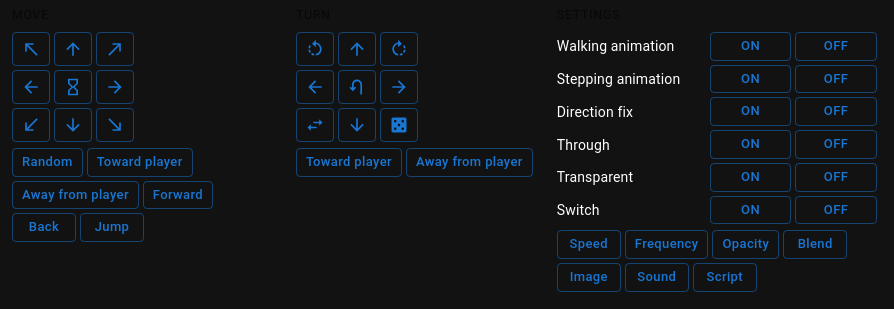
RoutePads › names the number pad key that types a step, when hovered
Hover over the button named "Move Upper Left" at point(31, 49), box x1=12 y1=32 x2=50 y2=66
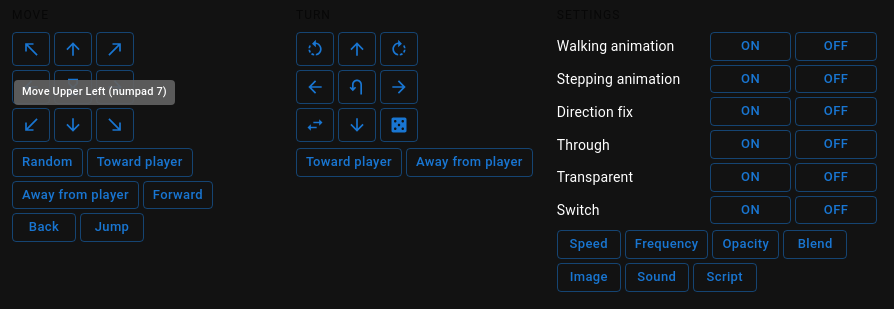
Expected: the tooltip reads "Move Upper Left (numpad 7)", x1=22 y1=85 x2=167 y2=98
